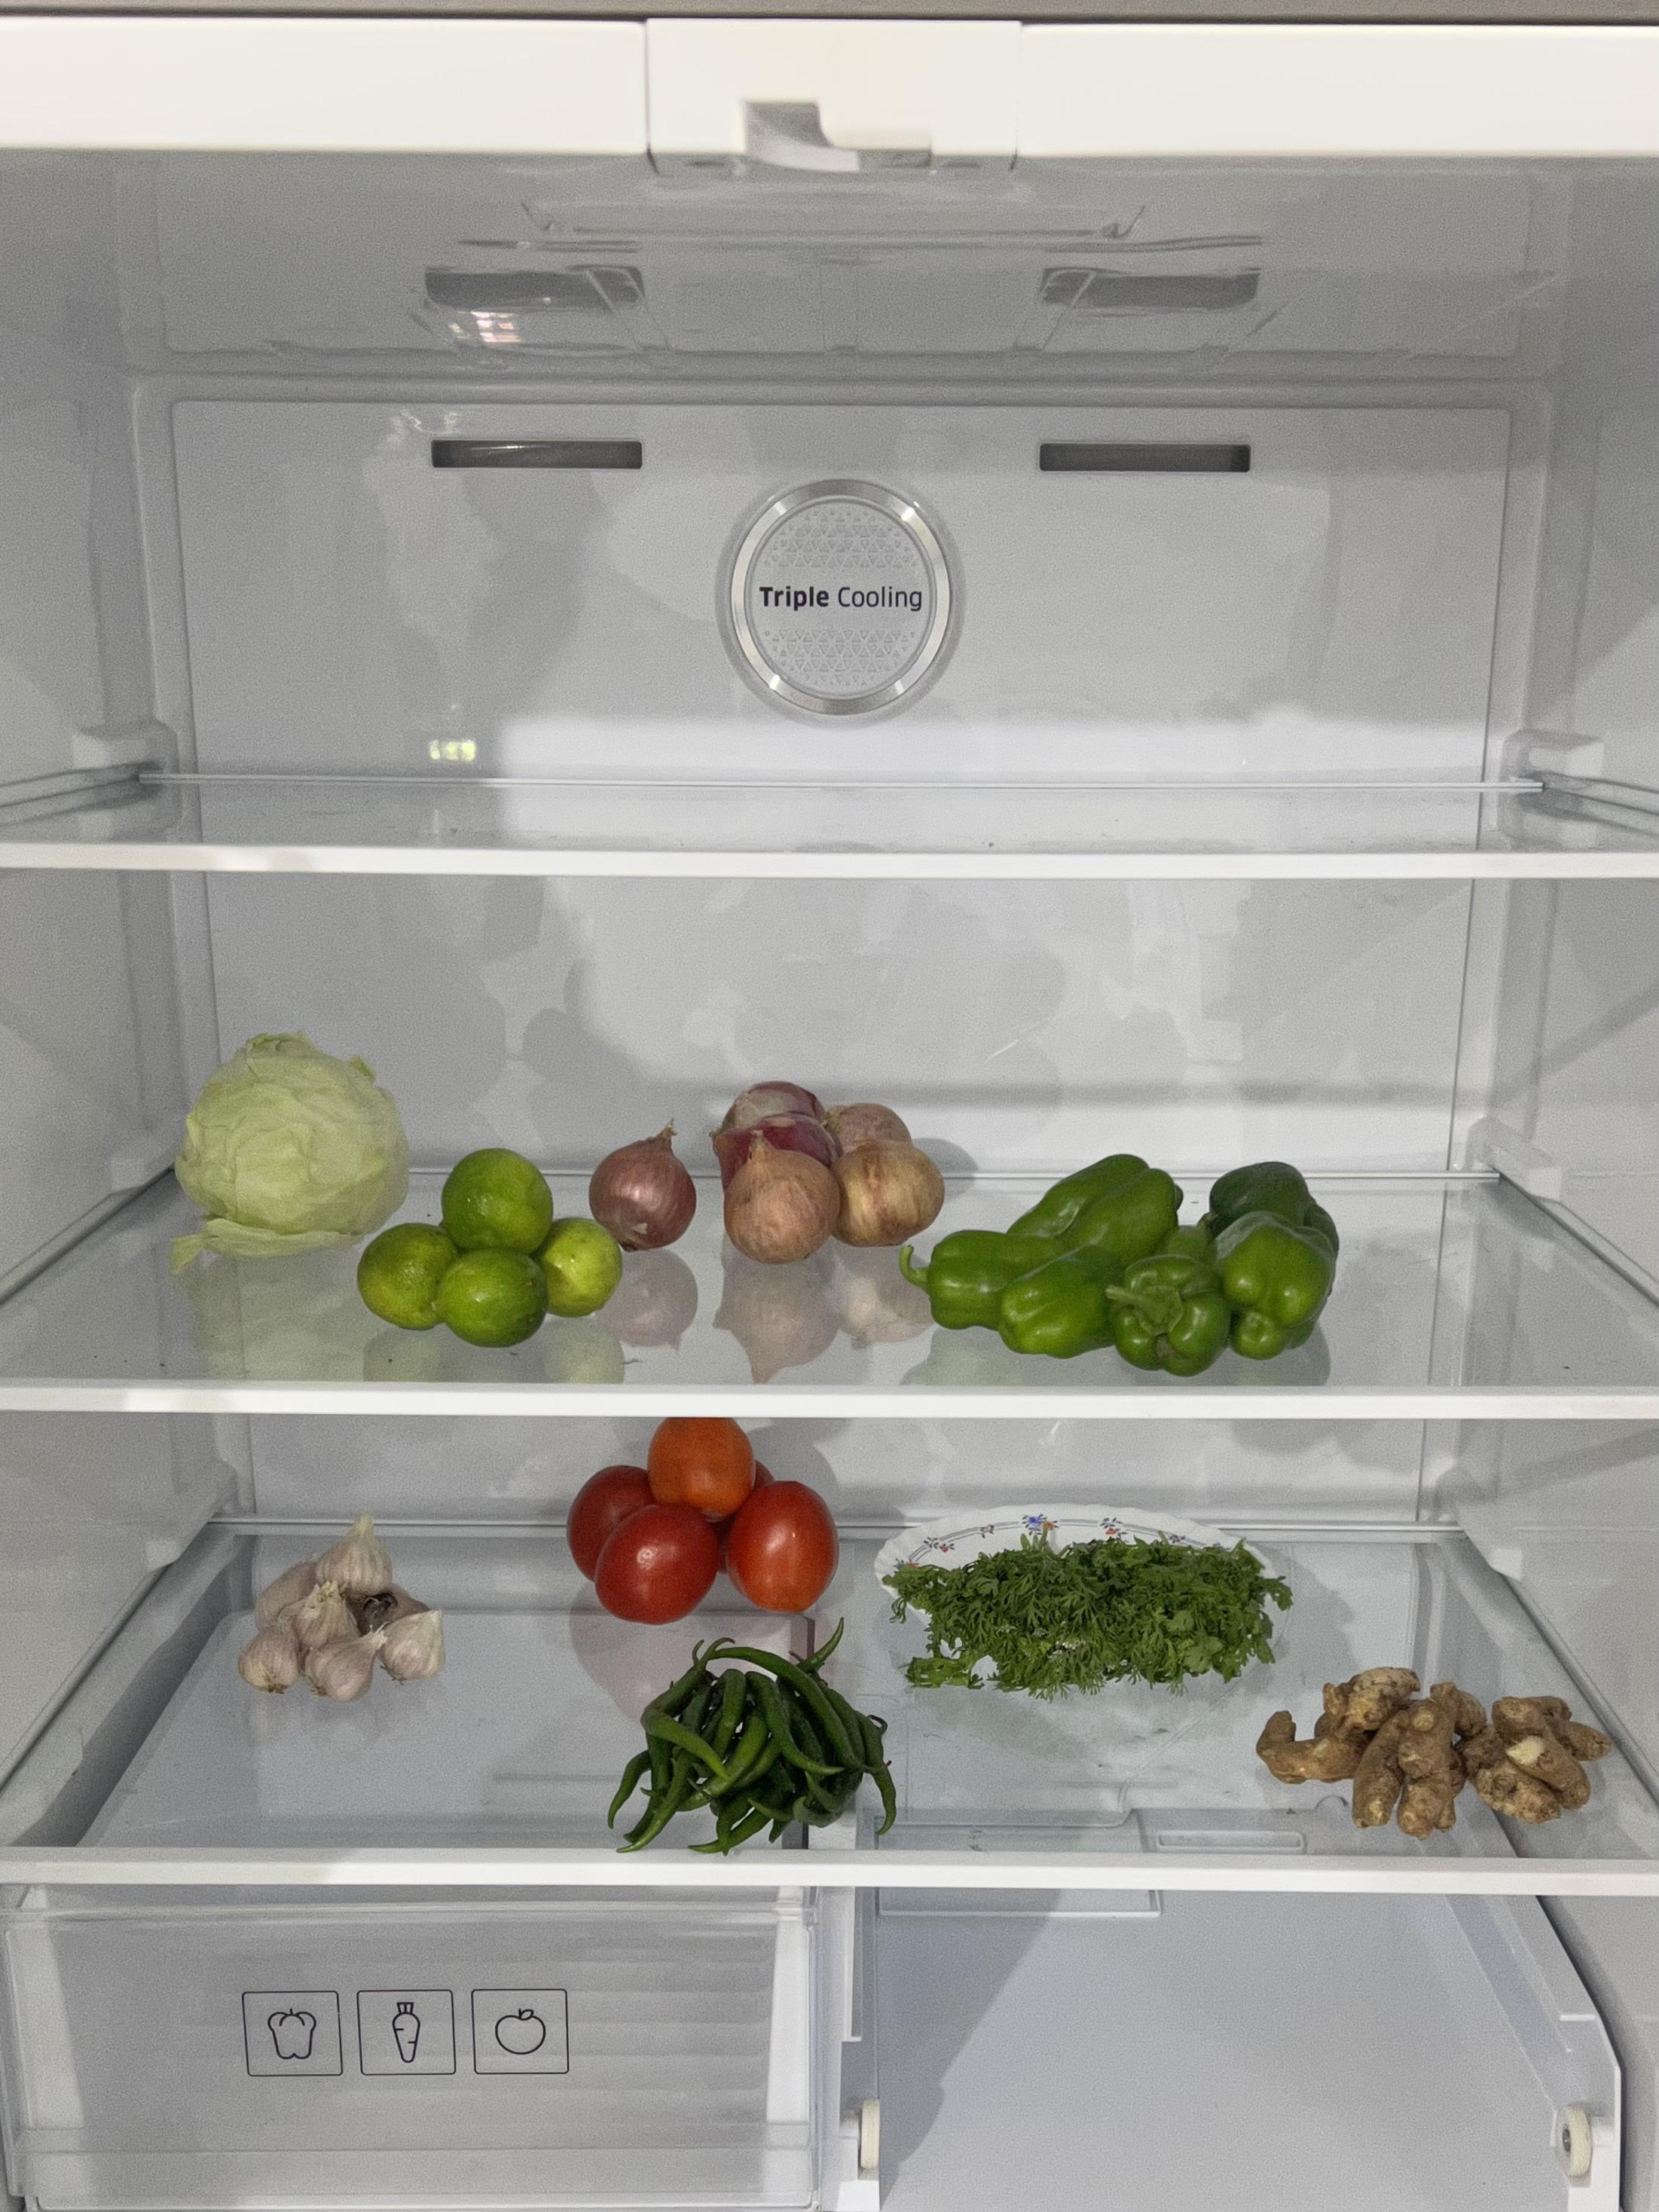cabbage: (178, 1031, 408, 1244)
capsicum: (922, 1153, 1338, 1372)
chillies: (606, 1625, 899, 1853)
coriander: (884, 1519, 1300, 1693)
garlic: (237, 1512, 444, 1700)
ginger: (1260, 1662, 1612, 1834)
lemon: (354, 1146, 622, 1346)
onion: (586, 1080, 943, 1259)
tomato: (563, 1414, 842, 1623)
